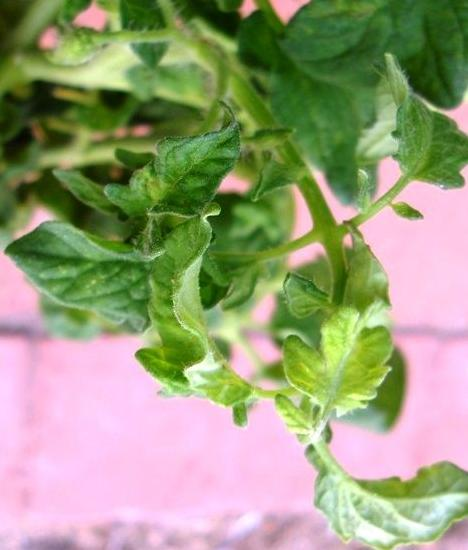Tomato leaf yellow virus: (124, 196, 254, 425), (278, 230, 414, 421), (0, 200, 175, 327), (287, 445, 468, 550), (373, 41, 468, 209)
